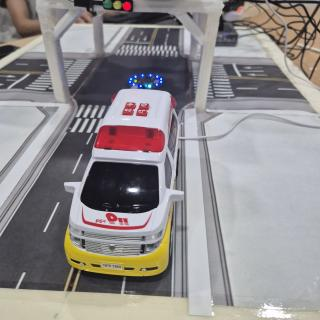Ambulance: (64, 89, 184, 276)
